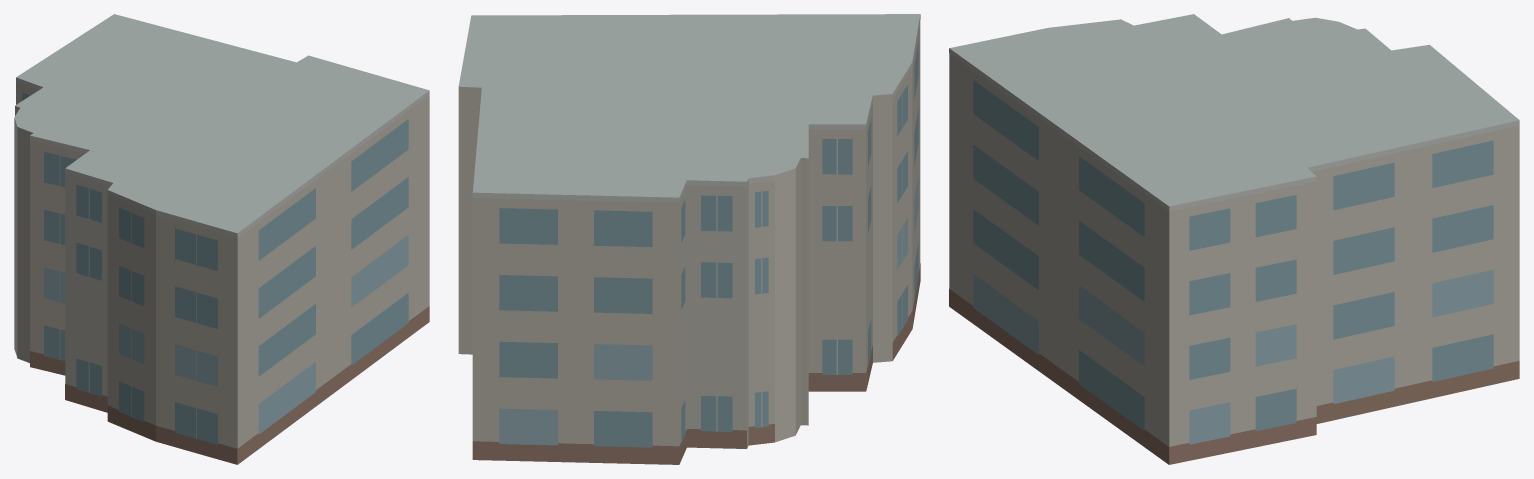
File: survey-upis-32604143.glb
The picture shows the model from 3 angles, left to right: view 1: azimuth 30°, elevation 25°; view 2: azimuth 150°, elevation 25°; view 3: azimuth 270°, elevation 25°; orthographic projection. The views are drawn at different scales.
Parts seen in each view (by area): view 1: survey-upis-32604143.tmp; view 2: survey-upis-32604143.tmp; view 3: survey-upis-32604143.tmp.
Boxes of the visible parts, x1,y1,x2,y2 form: survey-upis-32604143.tmp: [14, 14, 429, 464]; survey-upis-32604143.tmp: [458, 14, 920, 464]; survey-upis-32604143.tmp: [949, 14, 1519, 464].
Size of the model in its own units: 19.49 by 12.2 by 24.41.
